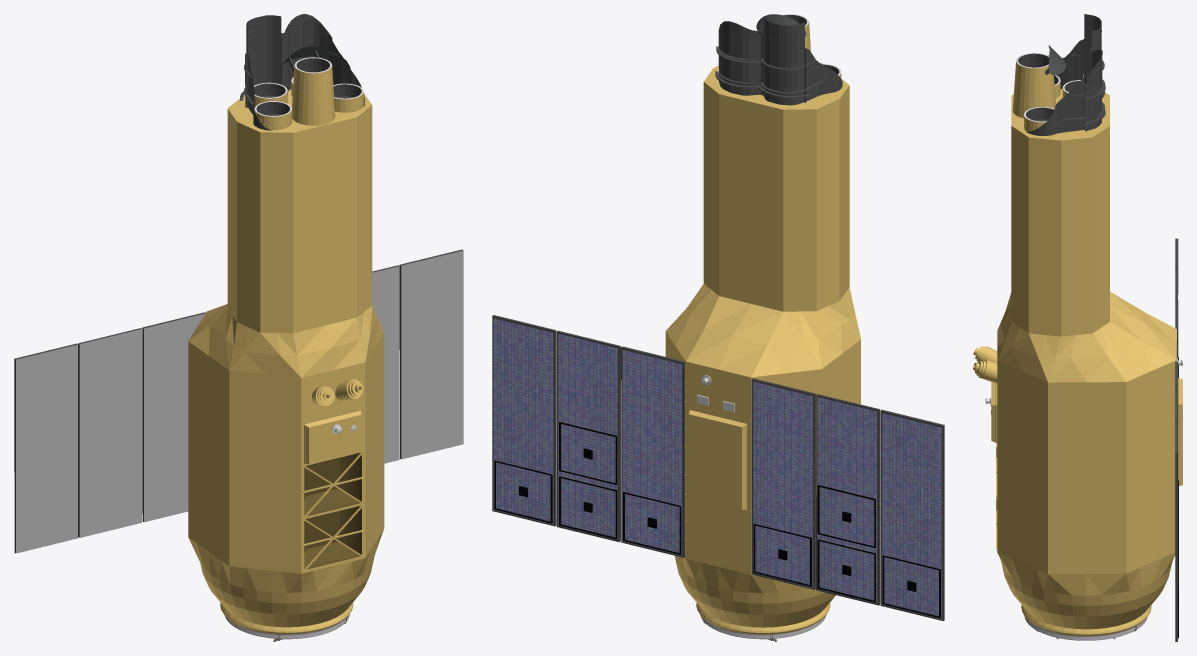
Rendered from Suzaku.fbx.
3 renders of one model, left to right at view 1: azimuth 30°, elevation 25°; view 2: azimuth 150°, elevation 25°; view 3: azimuth 270°, elevation 25°, orthographic. The views are drawn at different scales.
Parts seen in each view (by area): view 1: imagetostl_mesh13, imagetostl_mesh47, imagetostl_mesh48, imagetostl_mesh16, imagetostl_mesh8, imagetostl_mesh12, imagetostl_mesh22, imagetostl_mesh1, imagetostl_mesh15, imagetostl_mesh11, imagetostl_mesh20, imagetostl_mesh14 (+7 smaller); view 2: imagetostl_mesh45, imagetostl_mesh13, imagetostl_mesh16, imagetostl_mesh40, imagetostl_mesh42, imagetostl_mesh39, imagetostl_mesh41, imagetostl_mesh43, imagetostl_mesh38, imagetostl_mesh12, imagetostl_mesh44, imagetostl_mesh22 (+11 smaller); view 3: imagetostl_mesh13, imagetostl_mesh8, imagetostl_mesh12, imagetostl_mesh14, imagetostl_mesh15, imagetostl_mesh22, imagetostl_mesh11, imagetostl_mesh20, imagetostl_mesh3, imagetostl_mesh18, imagetostl_mesh6, imagetostl_mesh50 (+5 smaller).
Boxes of the visible parts, x1,y1,x2,y2 form: imagetostl_mesh13: (188, 105, 384, 573); imagetostl_mesh47: (16, 266, 463, 553); imagetostl_mesh48: (16, 250, 463, 537); imagetostl_mesh16: (293, 117, 356, 332); imagetostl_mesh8: (188, 529, 383, 634); imagetostl_mesh12: (188, 89, 383, 377); imagetostl_mesh22: (240, 14, 364, 130); imagetostl_mesh1: (304, 452, 361, 569); imagetostl_mesh15: (237, 122, 260, 332); imagetostl_mesh11: (209, 308, 365, 377); imagetostl_mesh20: (254, 65, 363, 130); imagetostl_mesh14: (227, 109, 236, 321); imagetostl_mesh45: (493, 317, 942, 619); imagetostl_mesh13: (665, 82, 860, 574); imagetostl_mesh16: (719, 94, 783, 311); imagetostl_mesh40: (493, 322, 941, 618); imagetostl_mesh42: (493, 319, 941, 616); imagetostl_mesh39: (493, 327, 941, 613); imagetostl_mesh41: (493, 320, 941, 615); imagetostl_mesh43: (493, 322, 941, 615); imagetostl_mesh38: (493, 324, 941, 614); imagetostl_mesh12: (676, 66, 860, 377); imagetostl_mesh44: (493, 318, 941, 618); imagetostl_mesh22: (715, 16, 842, 105); imagetostl_mesh13: (997, 126, 1176, 573); imagetostl_mesh8: (997, 552, 1175, 636); imagetostl_mesh12: (997, 89, 1176, 382); imagetostl_mesh14: (1028, 137, 1061, 336); imagetostl_mesh15: (1061, 137, 1092, 336); imagetostl_mesh22: (1026, 14, 1105, 135); imagetostl_mesh11: (997, 292, 1177, 632); imagetostl_mesh20: (1012, 61, 1067, 131); imagetostl_mesh3: (991, 378, 1182, 486); imagetostl_mesh18: (1018, 53, 1079, 121); imagetostl_mesh6: (973, 346, 997, 383); imagetostl_mesh50: (1175, 268, 1177, 641).
Size of the model in its own units: 522 by 675 by 216.
